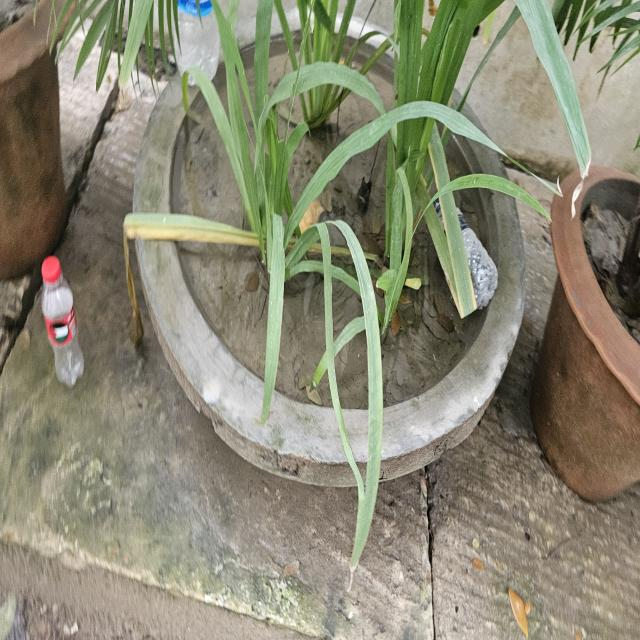artificial_container: (130, 0, 527, 495), (526, 166, 640, 505), (0, 0, 78, 286), (430, 188, 500, 313), (40, 250, 89, 392), (169, 0, 222, 90)
